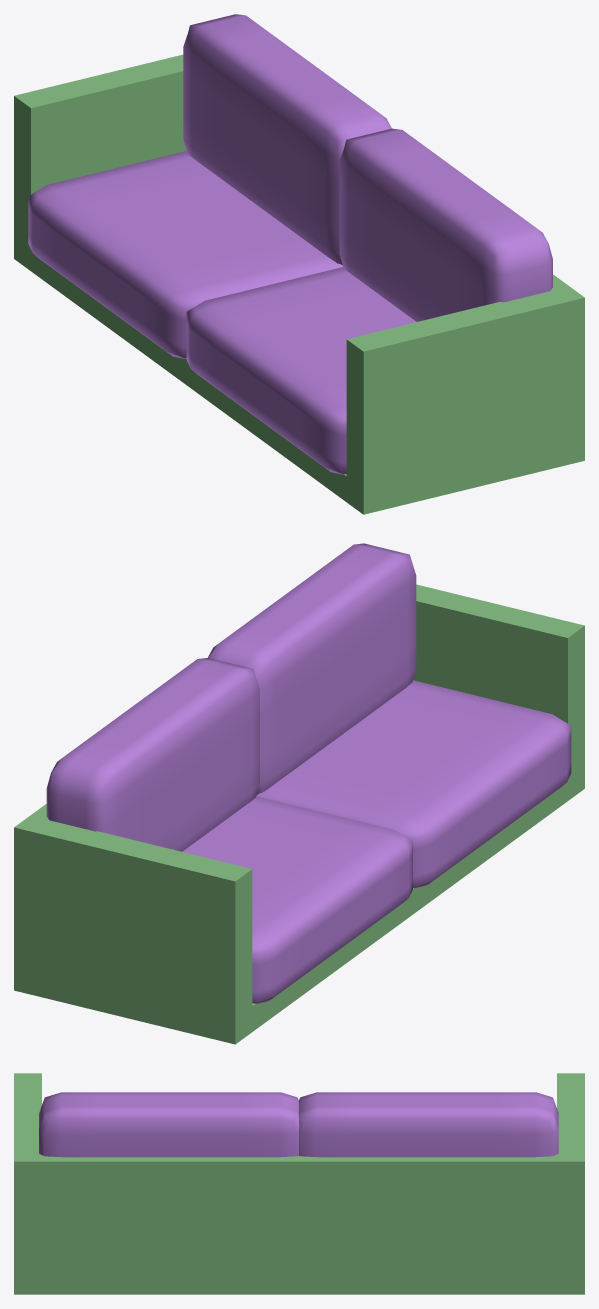
The model's file is Canap.fbx.
3 renders of one model, top to bottom at view 1: azimuth 30°, elevation 25°; view 2: azimuth 150°, elevation 25°; view 3: azimuth 270°, elevation 25°, orthographic. The views are drawn at different scales.
Parts seen in each view (by area): view 1: Object001; view 2: Object001; view 3: Object001.
Part boxes in pixels (box(x1,y1,x2,y2)): Object001: box(14, 14, 584, 514); Object001: box(14, 543, 584, 1044); Object001: box(14, 1073, 584, 1294).
Size of the model in its own units: 102 by 91.21 by 267.
